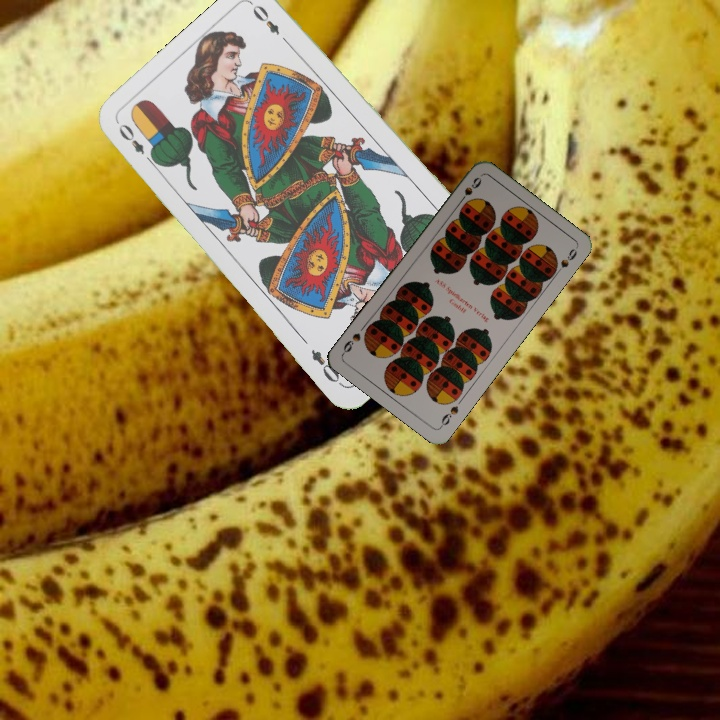EO: (114, 119, 159, 168)
S9: (454, 173, 484, 207), (436, 402, 461, 430)
